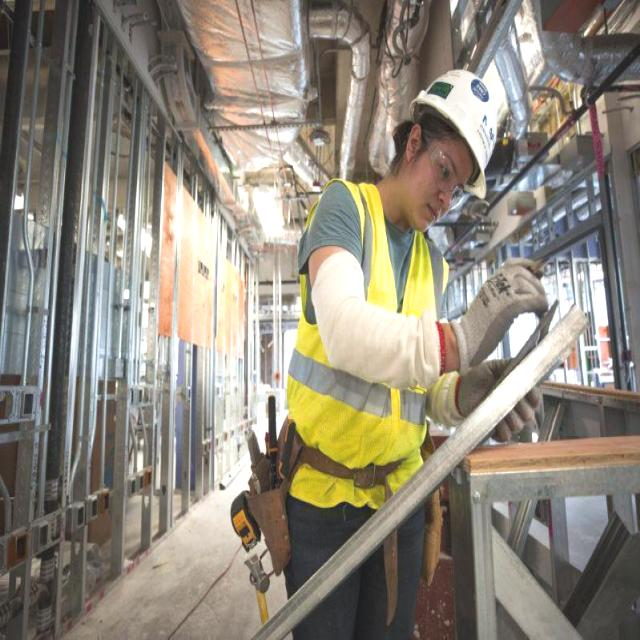face_nomask: (400, 124, 474, 239)
glasses: (426, 144, 466, 208)
hand_glove: (451, 260, 550, 374)
head_helmet: (427, 53, 496, 205)
person: (277, 49, 499, 605)
vest: (303, 192, 435, 491)
